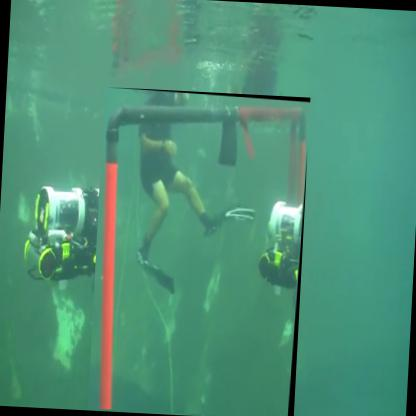gate: (88, 87, 312, 416)
